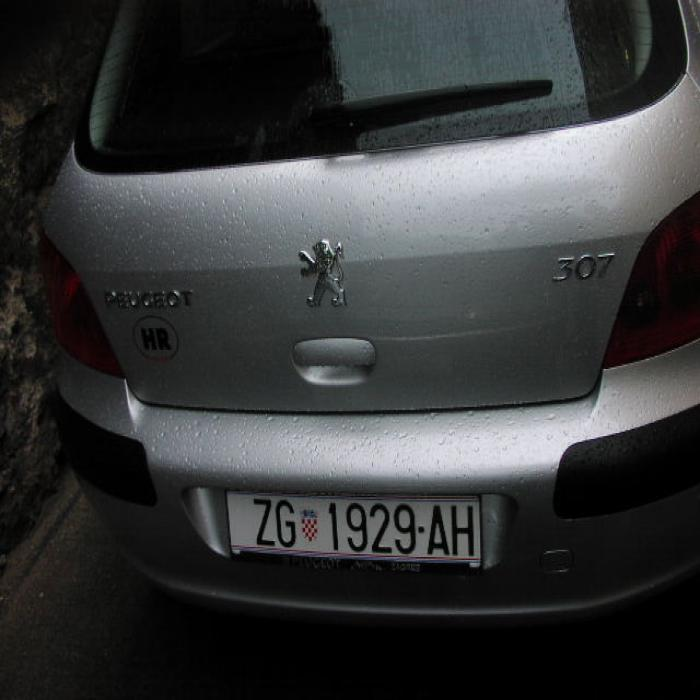number_plate: (226, 494, 476, 557)
